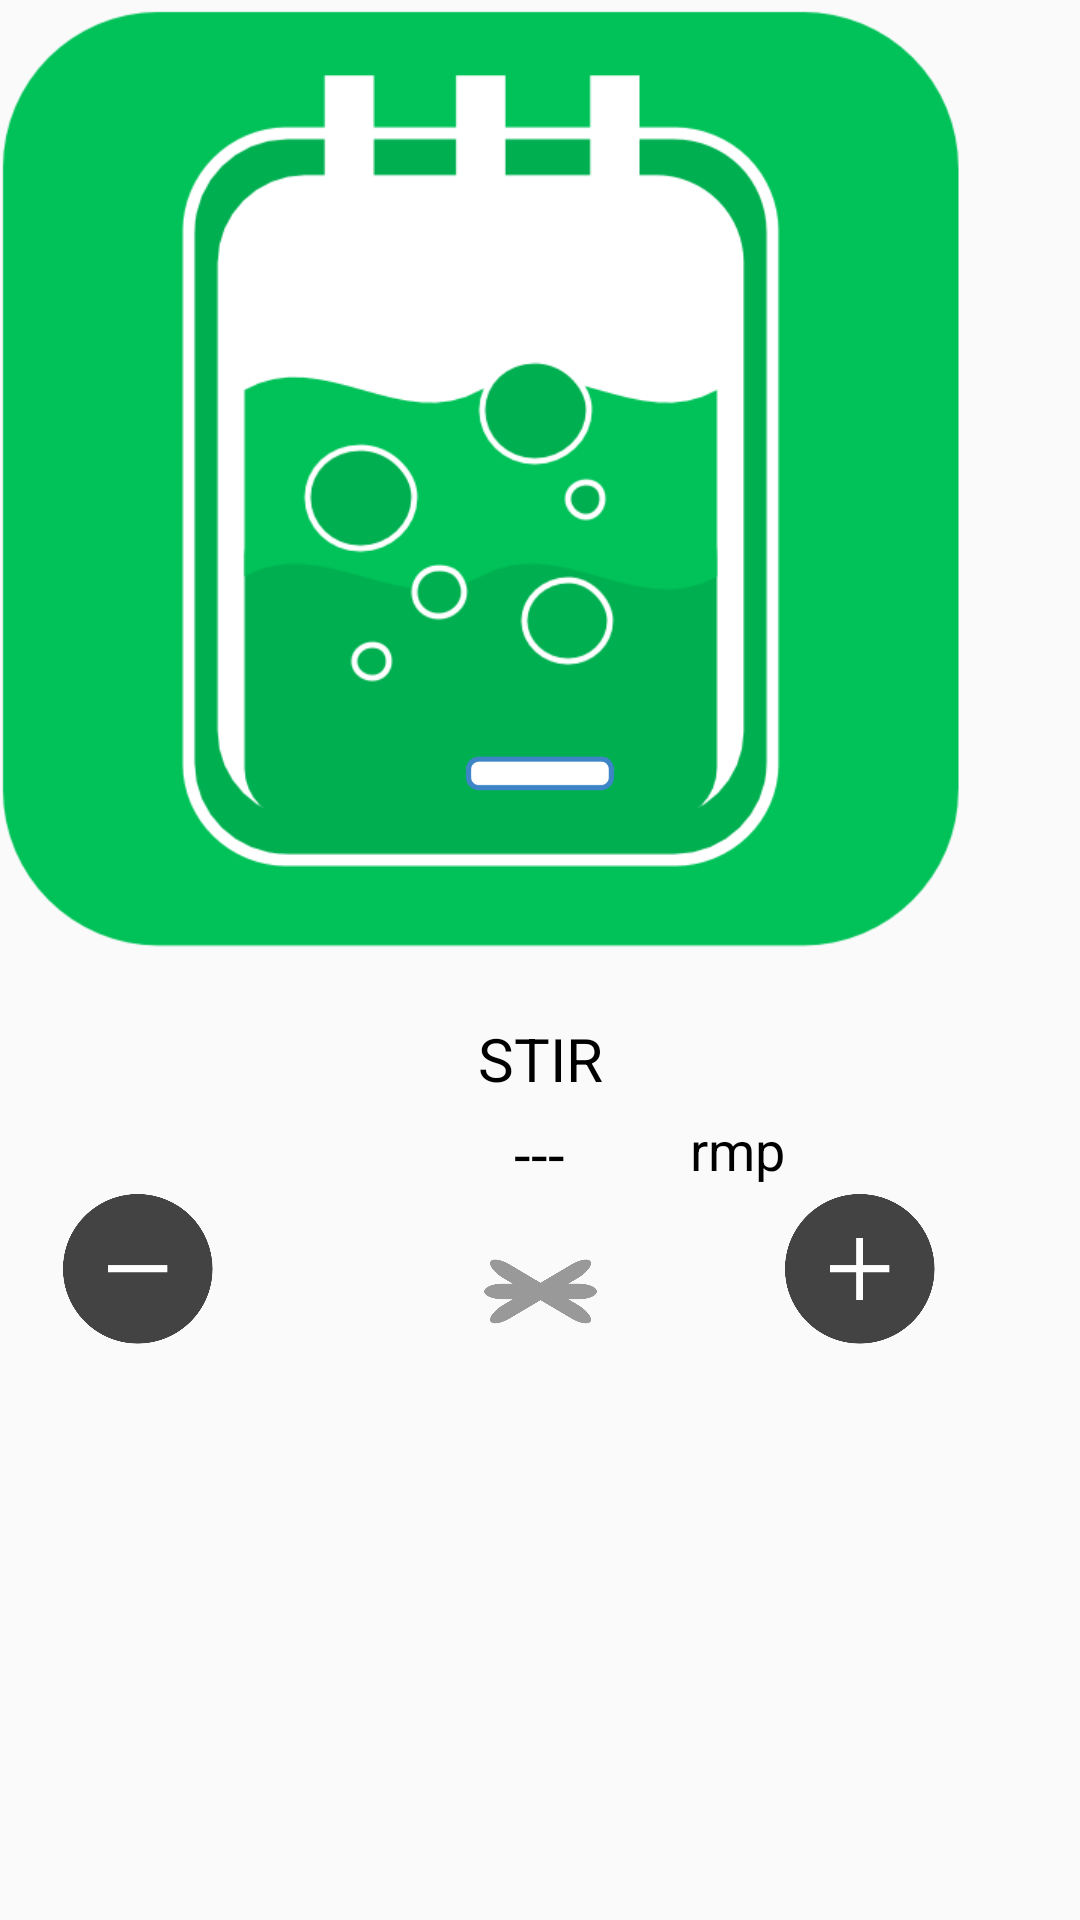

Locate icon controls on the screen. Image size 1080x1920, boxes as (x1, y1, x2, y2).
minus: (63, 1194, 213, 1344)
plus: (785, 1194, 935, 1344)
